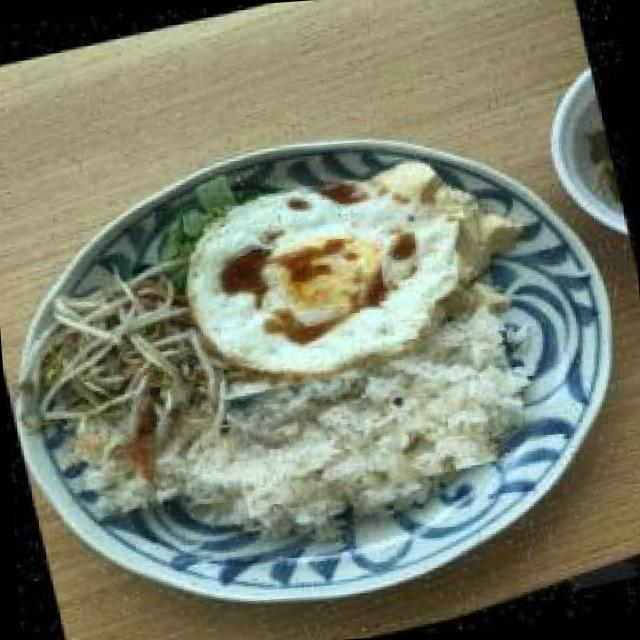fried_eggs: (188, 163, 464, 384)
mung_bean_sprouts: (46, 291, 204, 428)
rice: (218, 340, 500, 520)
